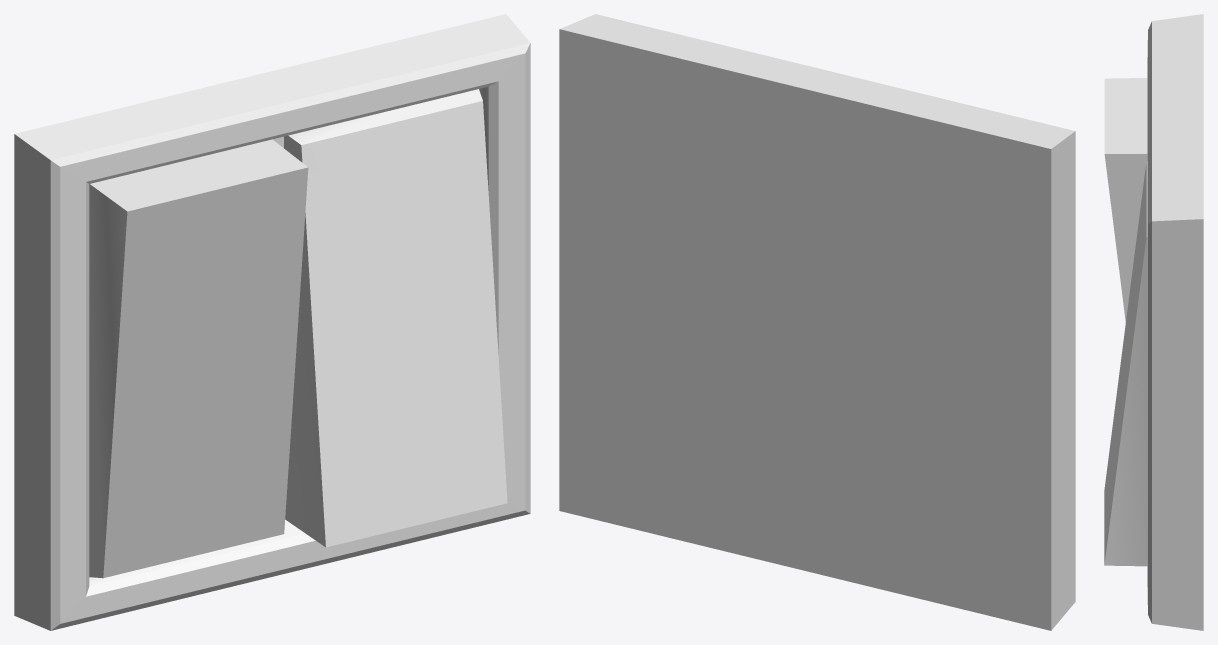
Rendered from Switch.FBX.
3 renders of one model, left to right at view 1: azimuth 30°, elevation 25°; view 2: azimuth 150°, elevation 25°; view 3: azimuth 270°, elevation 25°, orthographic. The views are drawn at different scales.
Parts seen in each view (by area): view 1: Switch; view 2: Switch; view 3: Switch.
Part boxes in pixels (bbox=[...]): Switch: bbox=[14, 14, 530, 630]; Switch: bbox=[559, 14, 1075, 630]; Switch: bbox=[1104, 14, 1203, 630].
Size of the model in its own units: 9.74 by 9.12 by 1.99.
1 material, 1 textured.
